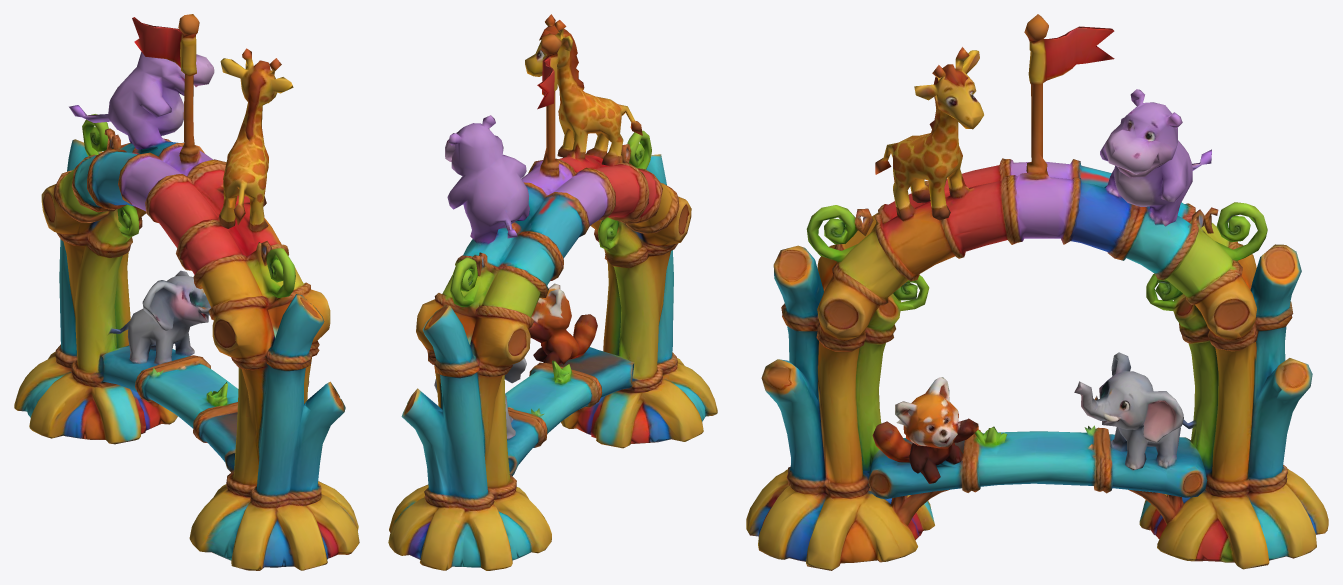
The model's file is zoo_gate.glb.
3 renders of one model, left to right at view 1: azimuth 30°, elevation 25°; view 2: azimuth 150°, elevation 25°; view 3: azimuth 270°, elevation 25°, orthographic. The views are drawn at different scales.
Parts seen in each view (by area): view 1: tripo_node_3f9df7db-2122-48b9-aa3b-b220e0a55def; view 2: tripo_node_3f9df7db-2122-48b9-aa3b-b220e0a55def; view 3: tripo_node_3f9df7db-2122-48b9-aa3b-b220e0a55def.
Part boxes in pixels (x1,y1,x2,y2): tripo_node_3f9df7db-2122-48b9-aa3b-b220e0a55def: (14, 14, 359, 570); tripo_node_3f9df7db-2122-48b9-aa3b-b220e0a55def: (388, 14, 717, 570); tripo_node_3f9df7db-2122-48b9-aa3b-b220e0a55def: (746, 14, 1328, 570).
Bounding box in the file's own units: 0.1741 × 0.5 × 0.5134.
Materials: 1 (1 with a texture image).
